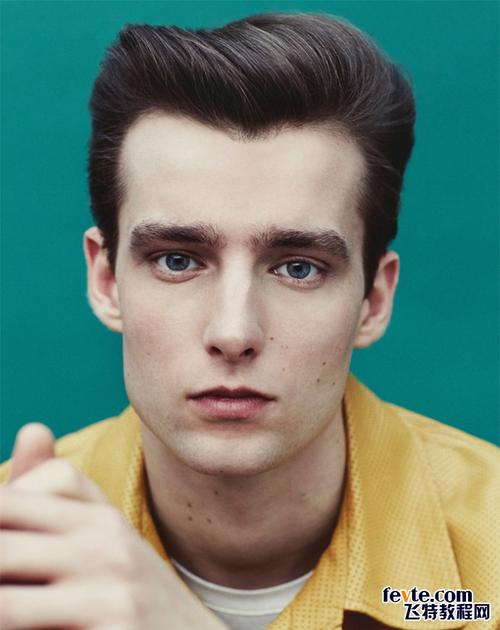no_mask: (98, 96, 398, 471)
